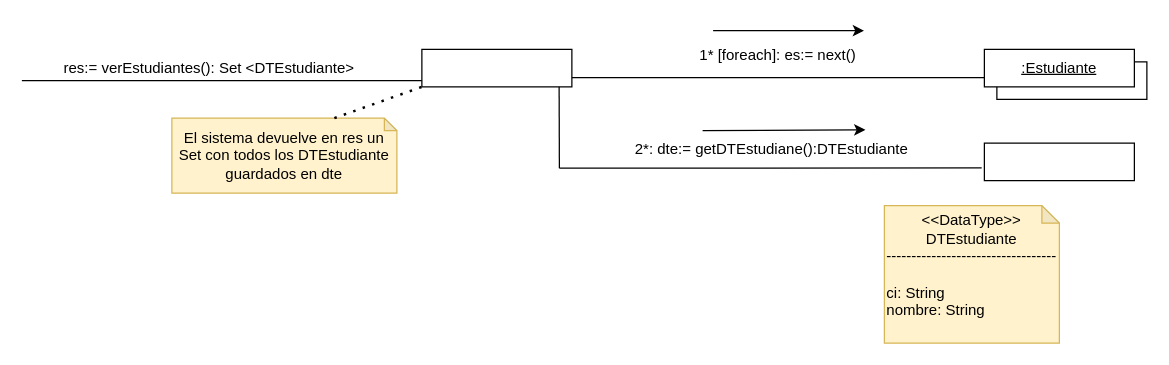
The diagram is 1169 pixels wide and 365 high, and some of its shapes have lost their labels. Here are the shapes that lost their labels. From the top down, the centre of each, then its label:
At [496,67]: ":Sistema".
At [1058,161]: "es:Estudiante".
